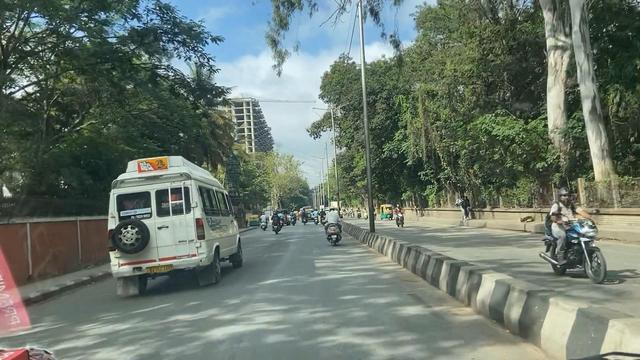HMV: (109, 180, 213, 294)
LMV: (325, 207, 344, 251), (271, 207, 283, 237)
